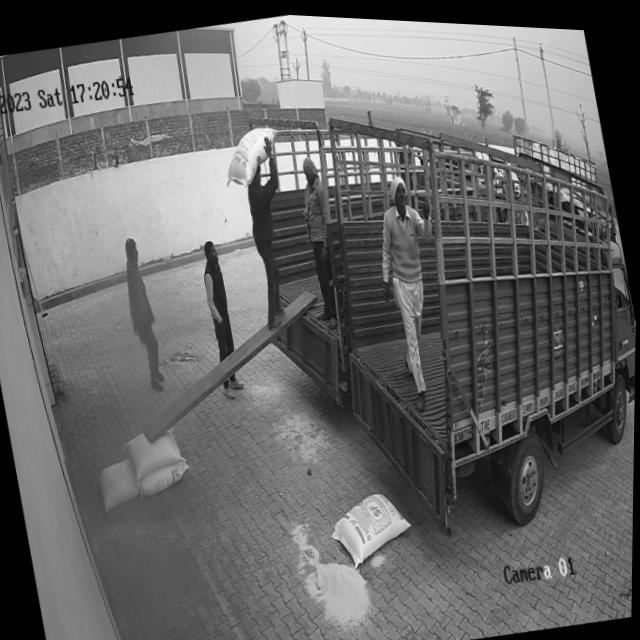sack: (326, 481, 418, 569), (217, 119, 285, 190), (122, 423, 184, 481), (96, 454, 143, 511), (138, 455, 194, 497)
